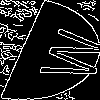W: (24, 25, 100, 84)
